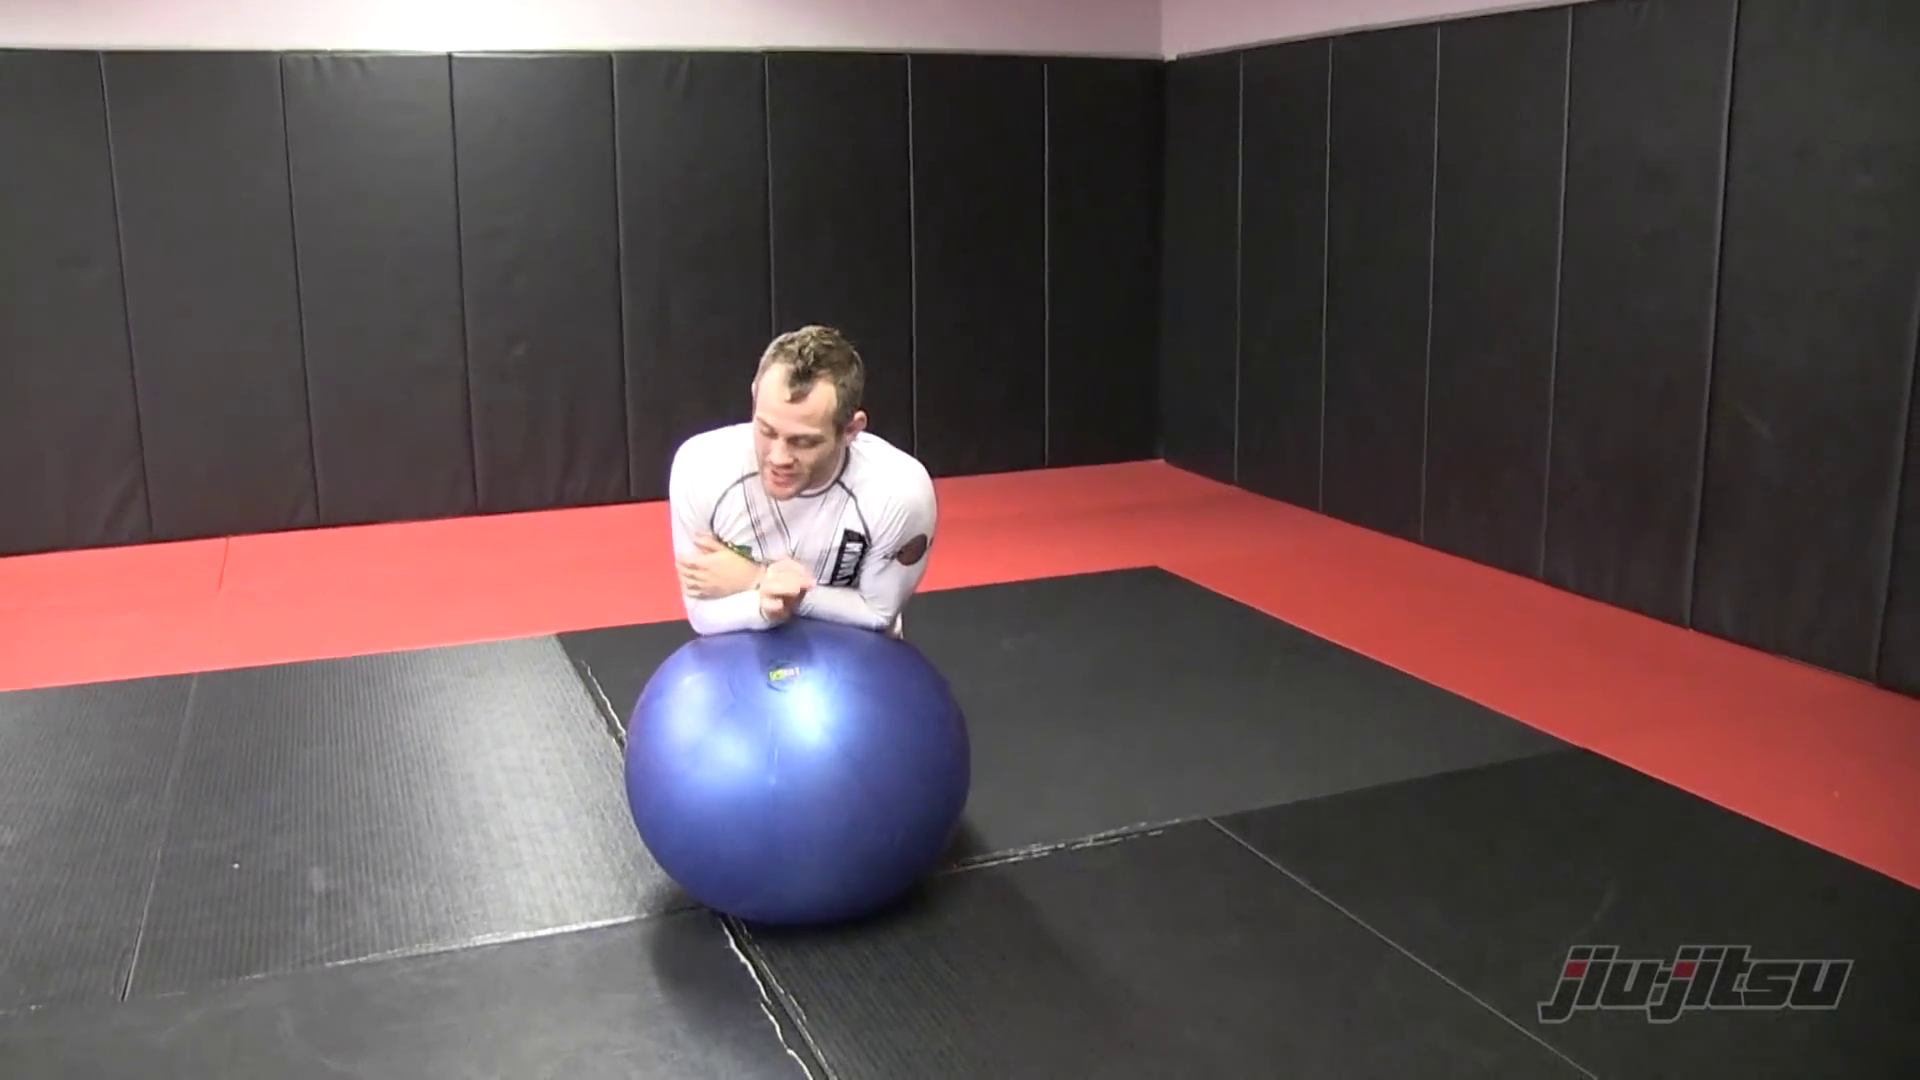yogaball: (615, 622, 1000, 942)
